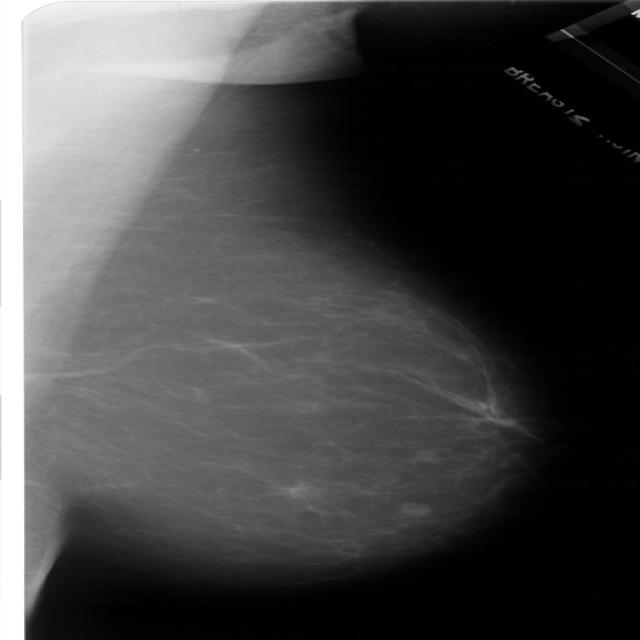tumour: (398, 500, 433, 516)
